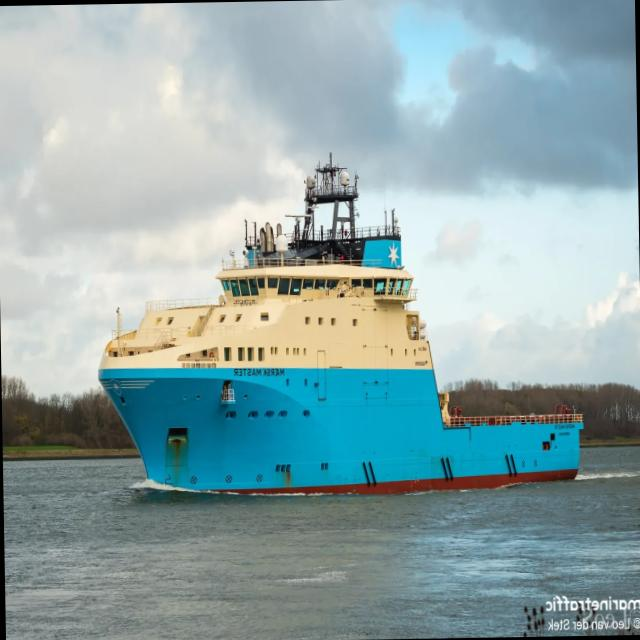Offshore: (97, 161, 582, 495)
